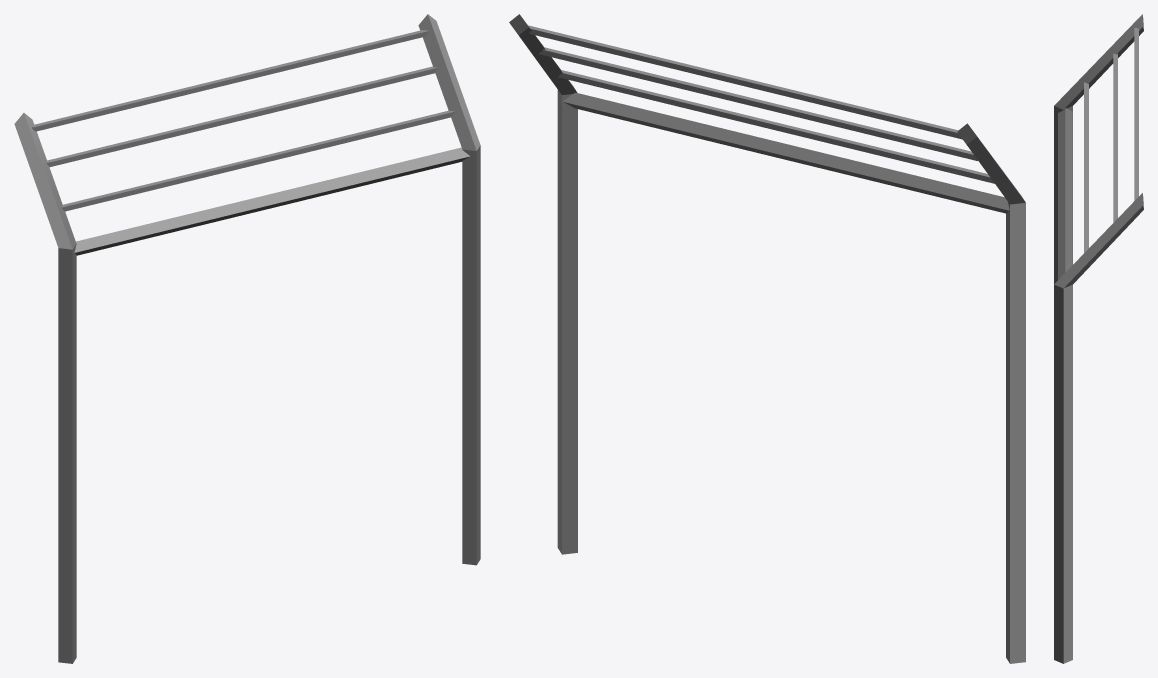
File: SM_Prop_Fence_01.fbx
3 renders of one model, left to right at view 1: azimuth 30°, elevation 25°; view 2: azimuth 150°, elevation 25°; view 3: azimuth 270°, elevation 25°, orthographic. The views are drawn at different scales.
Parts seen in each view (by area): view 1: SM_Prop_Fence_01; view 2: SM_Prop_Fence_01; view 3: SM_Prop_Fence_01.
Boxes of the visible parts, x1,y1,x2,y2 form: SM_Prop_Fence_01: [14, 14, 480, 663]; SM_Prop_Fence_01: [509, 14, 1025, 663]; SM_Prop_Fence_01: [1054, 14, 1143, 663].
Bounding box in the file's own units: 3.96 × 4.62 × 0.8049.
